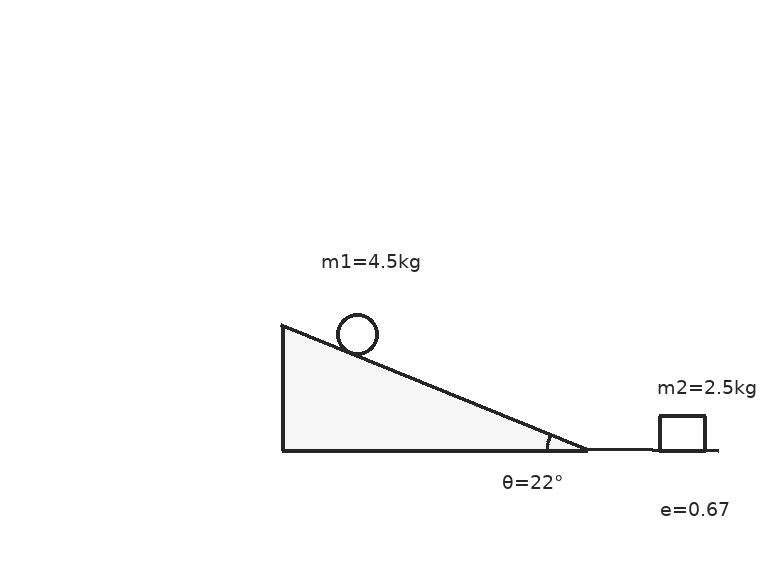ball: (334, 311, 380, 357)
block: (657, 414, 707, 452)
ramp: (279, 324, 589, 452)
